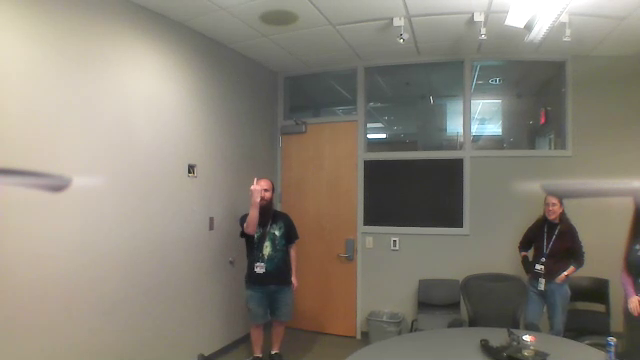up: (245, 175, 265, 204)
